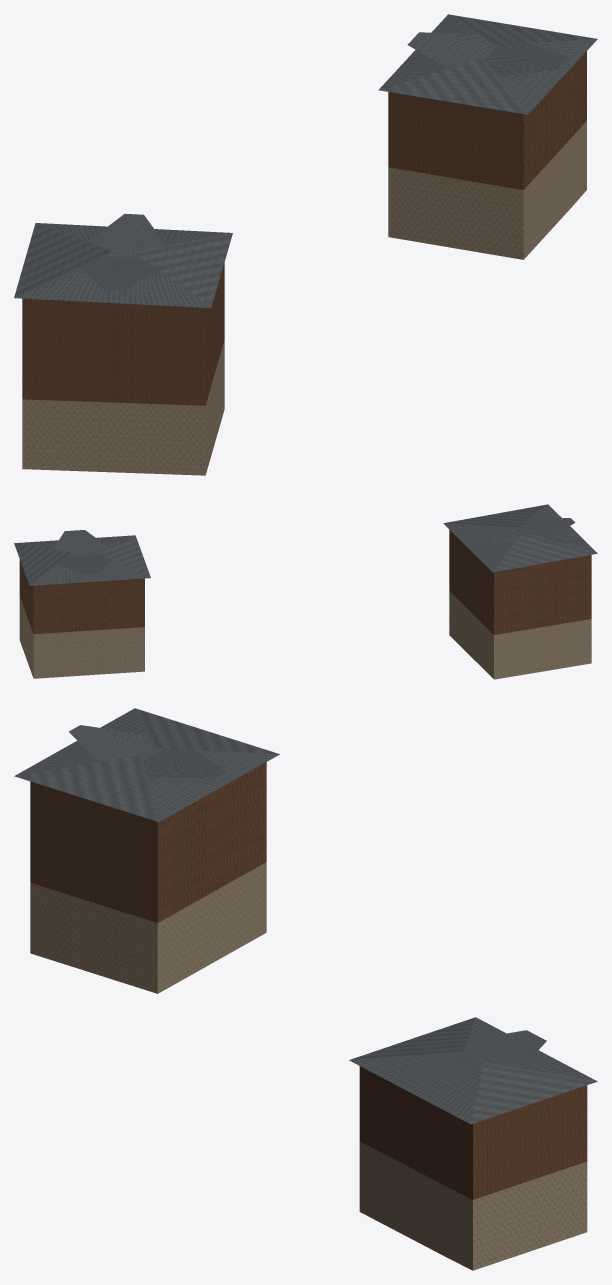
File: bld_c9_18_429.gltf
3 renders of one model, top to bottom at view 1: azimuth 30°, elevation 25°; view 2: azimuth 150°, elevation 25°; view 3: azimuth 270°, elevation 25°, orthographic. The views are drawn at different scales.
Parts seen in each view (by area): view 1: bld_c9_18_429; view 2: bld_c9_18_429; view 3: bld_c9_18_429.
Boxes of the visible parts, x1,y1,x2,y2 form: bld_c9_18_429: (14,14,597,475); bld_c9_18_429: (14,504,597,679); bld_c9_18_429: (14,708,597,1270).
Size of the model in its own units: 57.34 by 15.2 by 38.18.
Materials: 3 (3 with a texture image).
